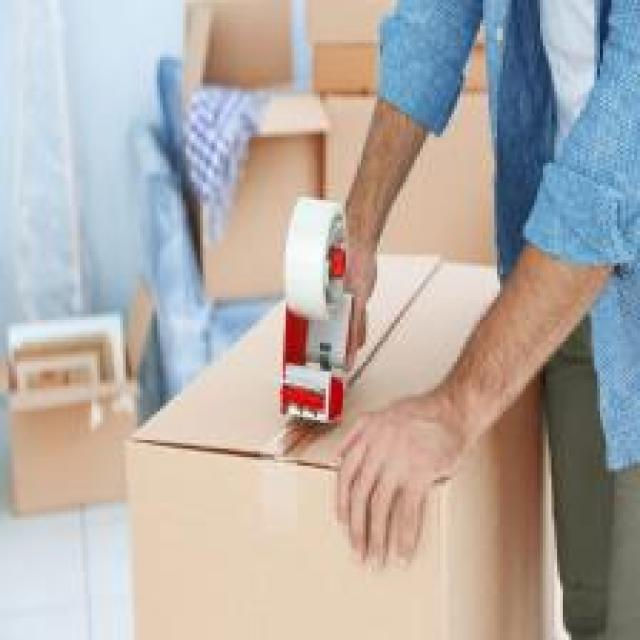box: (131, 245, 549, 640)
